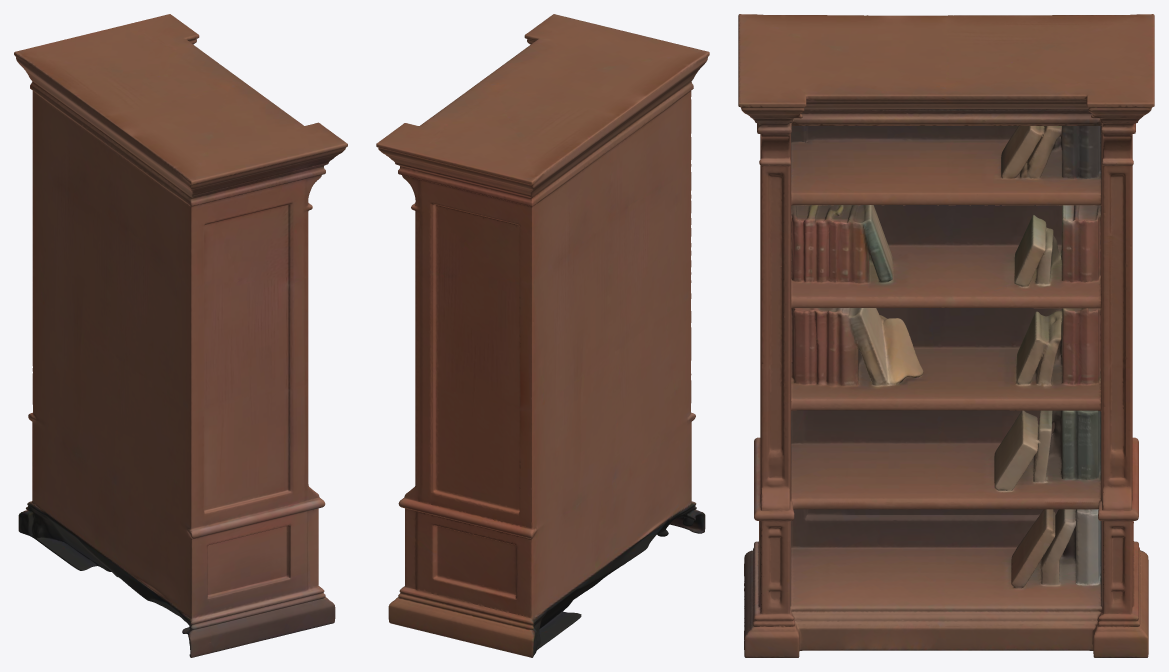
Rendered from detailed_realistic_model_antiquebookshelf_13.glb.
3 views of the same model, side by side, from view 1: azimuth 30°, elevation 25°; view 2: azimuth 150°, elevation 25°; view 3: azimuth 270°, elevation 25° (orthographic). The views are drawn at different scales.
Parts seen in each view (by area): view 1: tripo_node_5a7c623b-dd64-4cf0-adc0-20e6b90d4d42; view 2: tripo_node_5a7c623b-dd64-4cf0-adc0-20e6b90d4d42; view 3: tripo_node_5a7c623b-dd64-4cf0-adc0-20e6b90d4d42.
Part boxes in pixels (left/top/right/bottom): tripo_node_5a7c623b-dd64-4cf0-adc0-20e6b90d4d42: left=14, top=14, right=347, bottom=657; tripo_node_5a7c623b-dd64-4cf0-adc0-20e6b90d4d42: left=376, top=14, right=709, bottom=657; tripo_node_5a7c623b-dd64-4cf0-adc0-20e6b90d4d42: left=738, top=14, right=1154, bottom=657.
Bounding box in the file's own units: 0.3417 × 1 × 0.6703.
1 material, 1 textured.
